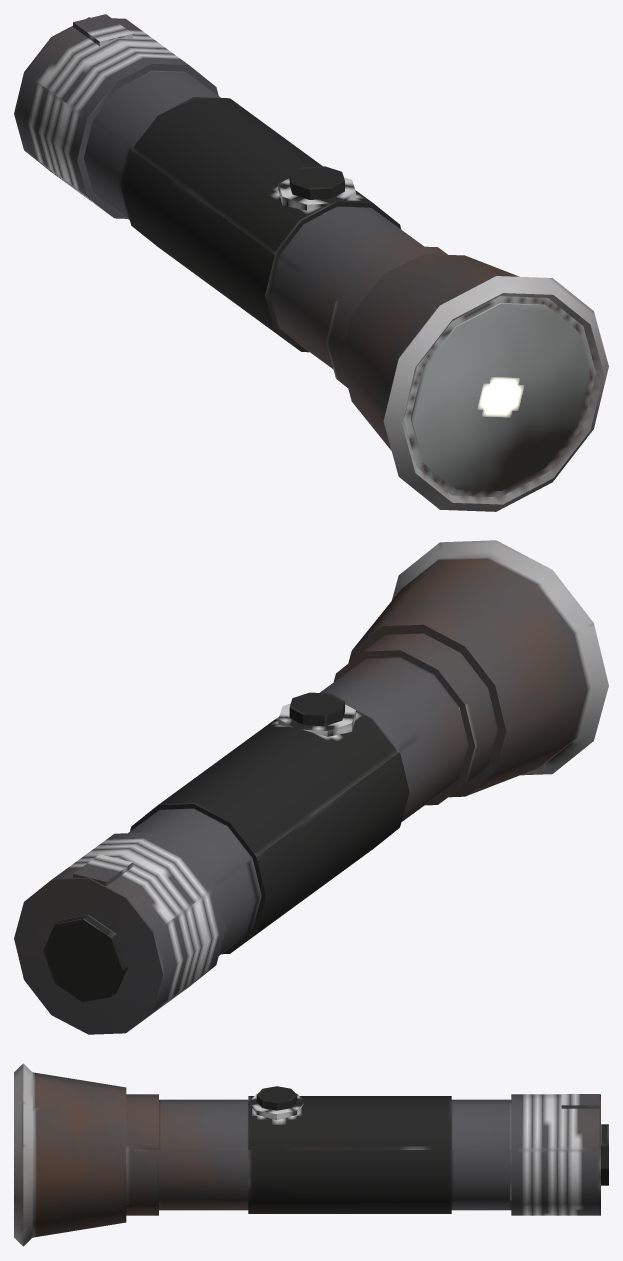
File: Flashlight_low.fbx
The picture shows the model from 3 angles, top to bottom: view 1: azimuth 30°, elevation 25°; view 2: azimuth 150°, elevation 25°; view 3: azimuth 270°, elevation 25°; orthographic projection. The views are drawn at different scales.
Parts seen in each view (by area): view 1: Flashlight_low; view 2: Flashlight_low; view 3: Flashlight_low.
Part boxes in pixels (bbox=[...]): Flashlight_low: bbox=[14, 14, 608, 511]; Flashlight_low: bbox=[14, 540, 608, 1034]; Flashlight_low: bbox=[14, 1063, 608, 1246].
Size of the model in its own units: 0.068 by 0.068 by 0.2195.
1 material, 1 textured.
